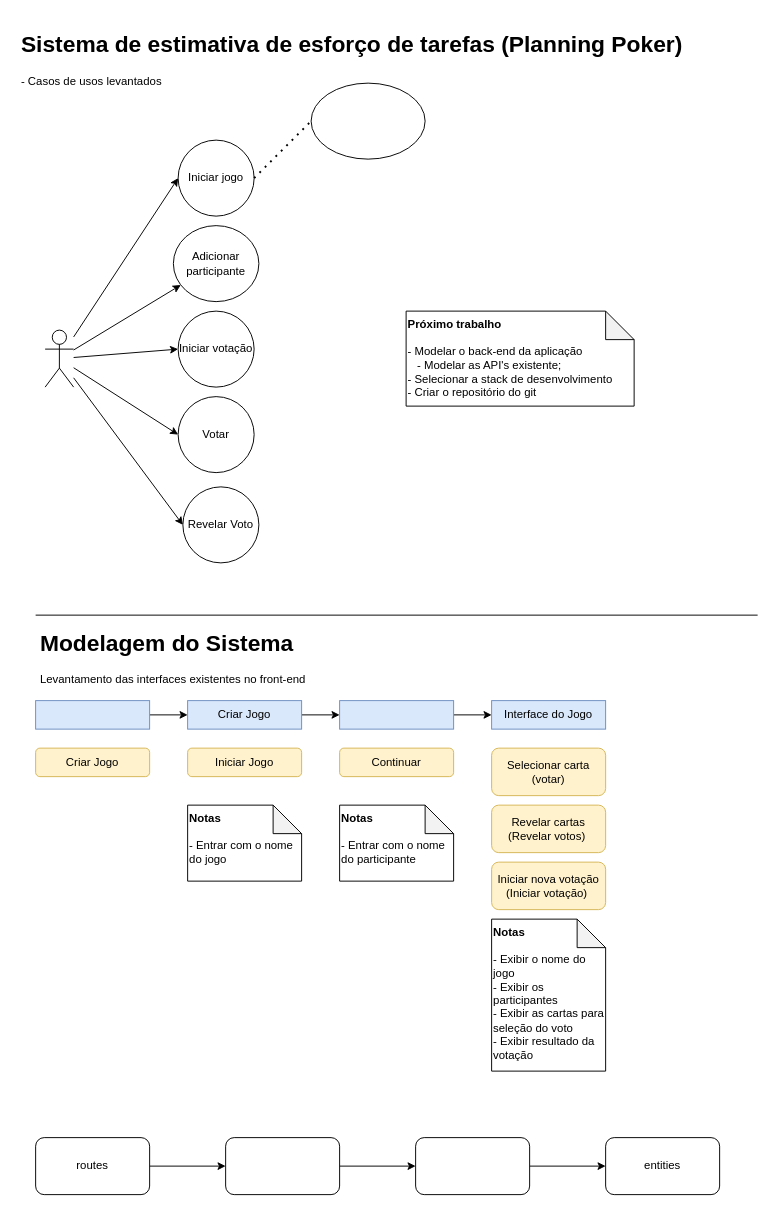
Some shapes in this 775 by 1211 pixel diagram are drawn without their labels. Each missing label, with the centre of its shape:
"Actor" belongs at [59,358].
"controllers" belongs at [282,1166].
"Gerar url do jogo" belongs at [367,120].
"home" belongs at [92,714].
"Incluir Participante" belongs at [396,714].
"services" belongs at [472,1166].
